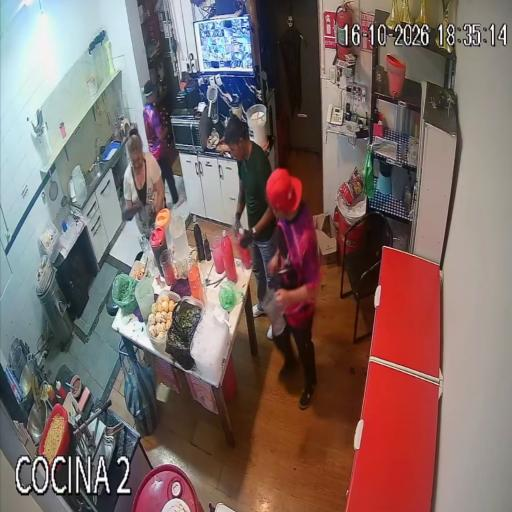Balde: (247, 104, 267, 147)
Cernidor: (207, 85, 218, 116)
Jarra1: (150, 228, 167, 276)
Jarra2: (155, 209, 171, 244)
Jarra3: (134, 278, 154, 320)
Jarra4: (170, 214, 190, 263)
Licuadora: (208, 96, 224, 137)
Licuadora2: (230, 94, 242, 119)
Microondas: (171, 109, 209, 153)
Persona1: (266, 168, 320, 409)
Persona2: (124, 129, 165, 236)
Persona3: (225, 116, 276, 317)
Persona5: (143, 82, 169, 174), (165, 165, 178, 203)
Taper: (130, 261, 147, 281)
Taper2: (146, 290, 180, 353)
Taper3: (166, 298, 202, 370)
Taper4: (190, 306, 230, 386)
